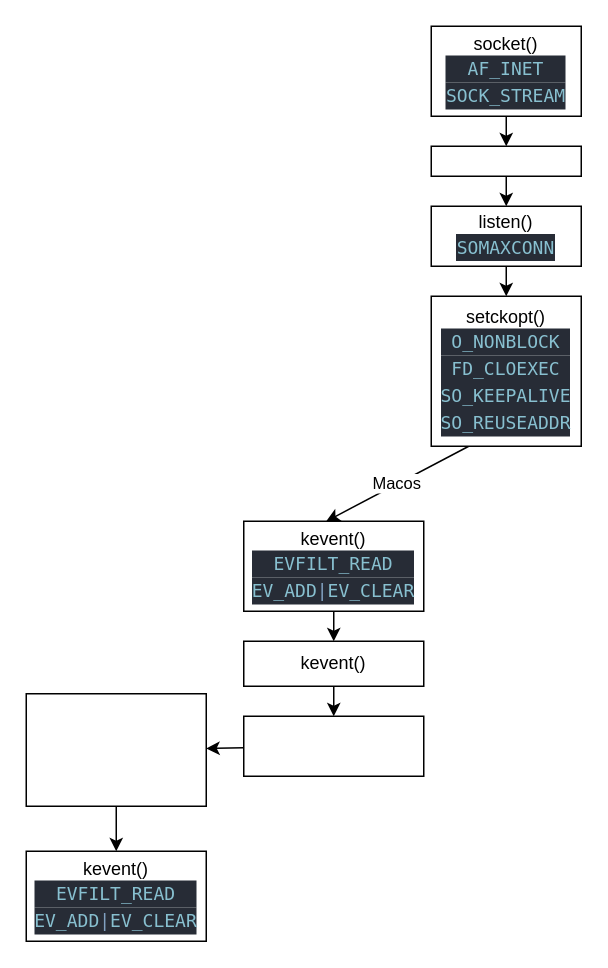
Some shapes in this 608 by 968 pixel diagram are drawn without their labels. Here are the shapes that lost their labels. From the top down, the box of each, then its label:
(430, 145, 581, 176): bind()
(25, 692, 206, 806): setsockopt() O_NONBLOCK FD_CLOEXEC SO_NOSIGPIPE
(242, 715, 424, 776): accept() SOMAXCONN
